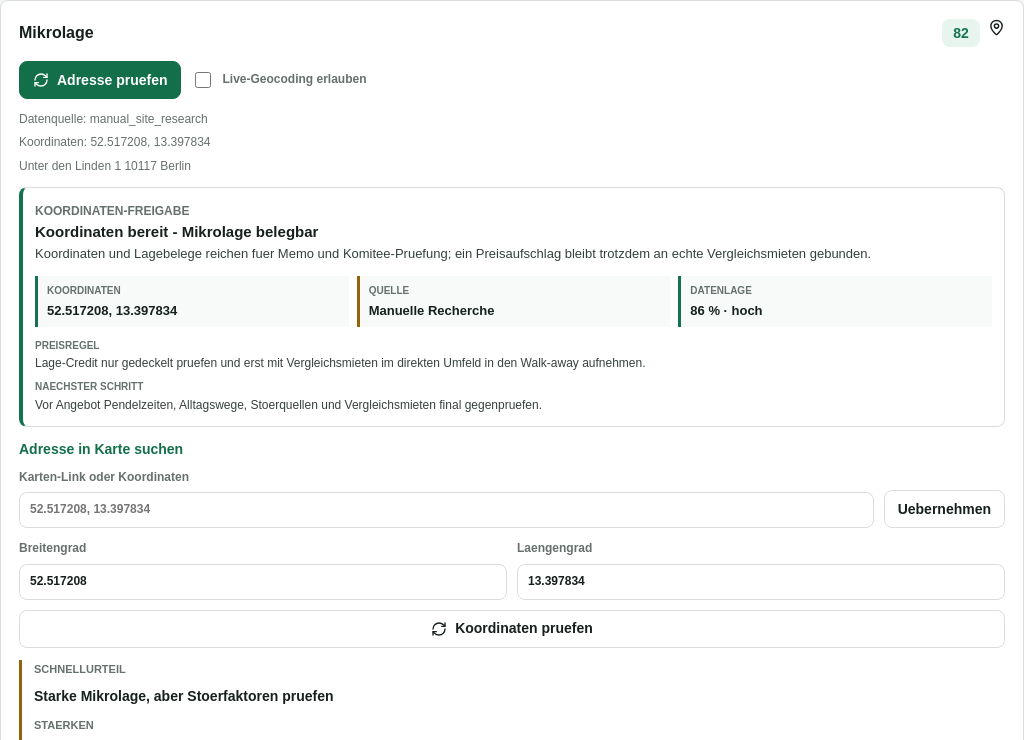
DealMicroLocationPanel › refreshes micro location from the object address and reports the saved state
This screenshot has width=1024, height=740.
Click the button "Adresse pruefen" at (100, 80), box left=19, top=61, right=182, bottom=99
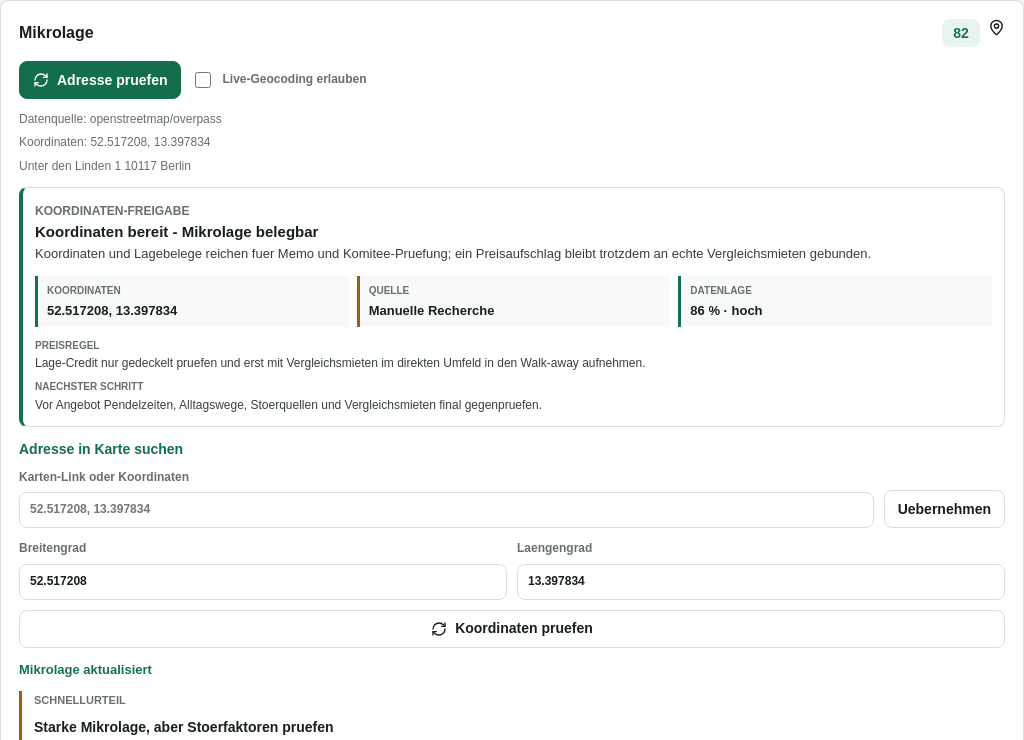
Result: the text "Mikrolage aktualisiert" is shown at left=19, top=662, right=152, bottom=677
Result: the text "Datenquelle: openstreetmap/overpass" is shown at left=19, top=112, right=222, bottom=126
